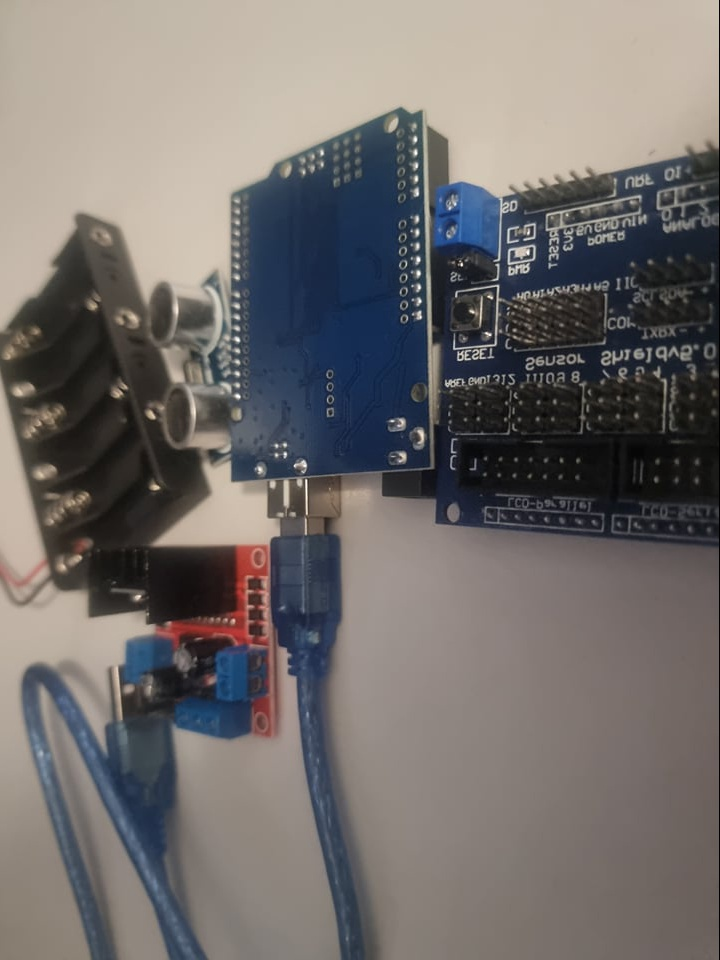5V EXPANSION: (439, 148, 716, 547)
BATTERY BOX: (3, 213, 215, 588)
MOTOR: (85, 541, 279, 737)
SENSOR: (148, 270, 233, 466)
UNO R3: (222, 104, 438, 520)
